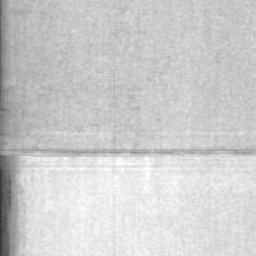Welding line: (0, 147, 256, 159)
